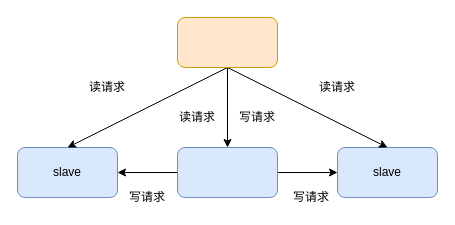
Some shapes in this 455 by 225 pixel diagram are drawn without their labels. Each missing label, with the centre of its shape:
"master" goes at [227,172].
"客户端" goes at [227,42].
